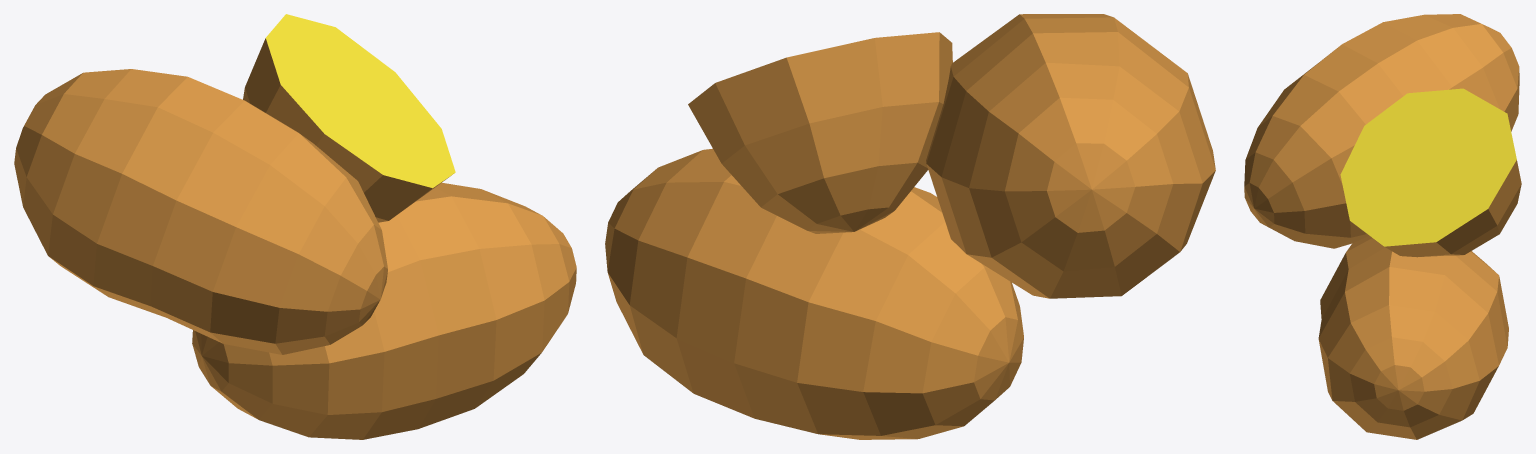
The model's file is e14cbcc0-8540-4c3a-ad2d-78aecb943345.glb.
The picture shows the model from 3 angles, left to right: view 1: azimuth 30°, elevation 25°; view 2: azimuth 150°, elevation 25°; view 3: azimuth 270°, elevation 25°; orthographic projection. The views are drawn at different scales.
Visible parts, largest first — view 1: pSphere25; view 2: pSphere25; view 3: pSphere25.
Boxes of the visible parts, box(x1,y1,x2,y2) form: pSphere25: box(14, 14, 576, 439); pSphere25: box(605, 14, 1215, 439); pSphere25: box(1244, 14, 1521, 439).
Bounding box in the file's own units: 201 × 145 × 119.
